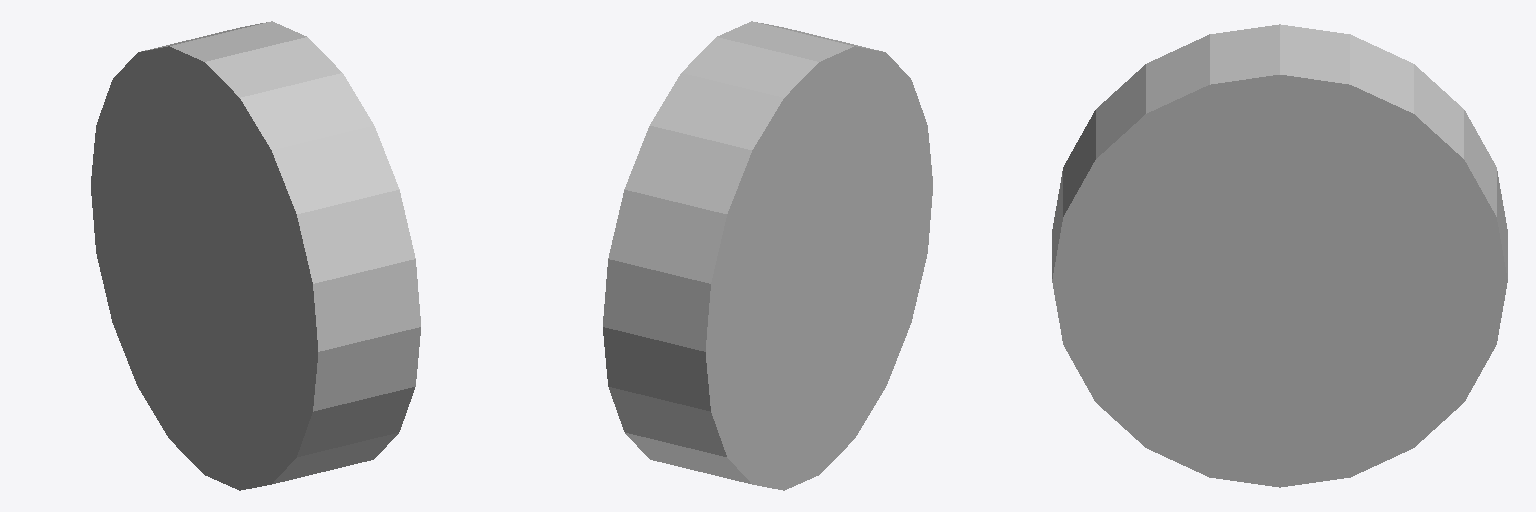
File: wheel.obj
3 renders of one model, left to right at view 1: azimuth 30°, elevation 25°; view 2: azimuth 150°, elevation 25°; view 3: azimuth 270°, elevation 25°, orthographic.
Parts seen in each view (by area): view 1: initialShadingGroup initialShadingGroup1 pCylinder1 polySurface1; view 2: initialShadingGroup initialShadingGroup1 pCylinder1 polySurface1; view 3: initialShadingGroup initialShadingGroup1 pCylinder1 polySurface1.
Part boxes in pixels (left/top/right/bottom): initialShadingGroup initialShadingGroup1 pCylinder1 polySurface1: left=91, top=21, right=420, bottom=490; initialShadingGroup initialShadingGroup1 pCylinder1 polySurface1: left=603, top=21, right=932, bottom=490; initialShadingGroup initialShadingGroup1 pCylinder1 polySurface1: left=1052, top=24, right=1507, bottom=487.
Bounding box in the file's own units: 0.0526 × 0.2018 × 0.2018.